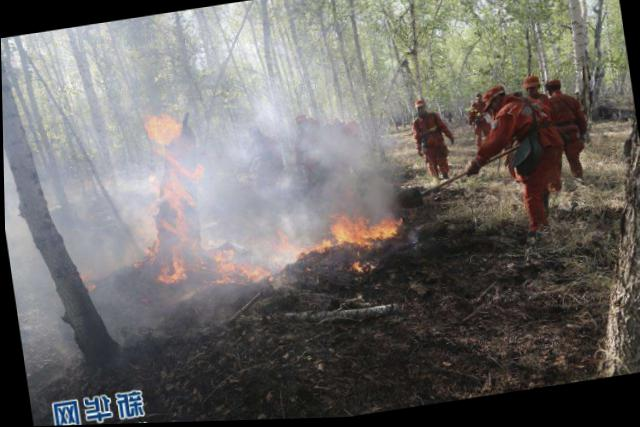fire: (108, 73, 399, 312)
